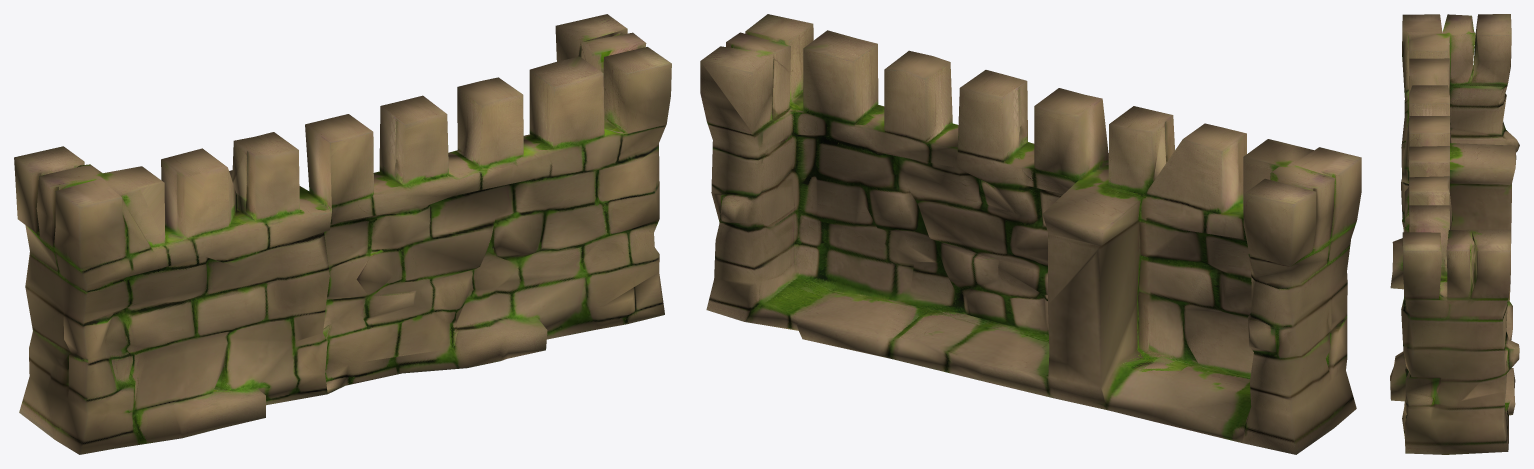
Rendered from town-wall-segment.glb.
3 renders of one model, left to right at view 1: azimuth 30°, elevation 25°; view 2: azimuth 150°, elevation 25°; view 3: azimuth 270°, elevation 25°, orthographic. The views are drawn at different scales.
Parts seen in each view (by area): view 1: Mesh_0.003; view 2: Mesh_0.003; view 3: Mesh_0.003.
Boxes of the visible parts, <box> form: Mesh_0.003: <box>14,14,671,454</box>; Mesh_0.003: <box>700,14,1361,454</box>; Mesh_0.003: <box>1390,14,1519,454</box>.
Size of the model in its own units: 1.22 by 0.5 by 0.2842.
Materials: 1 (1 with a texture image).
